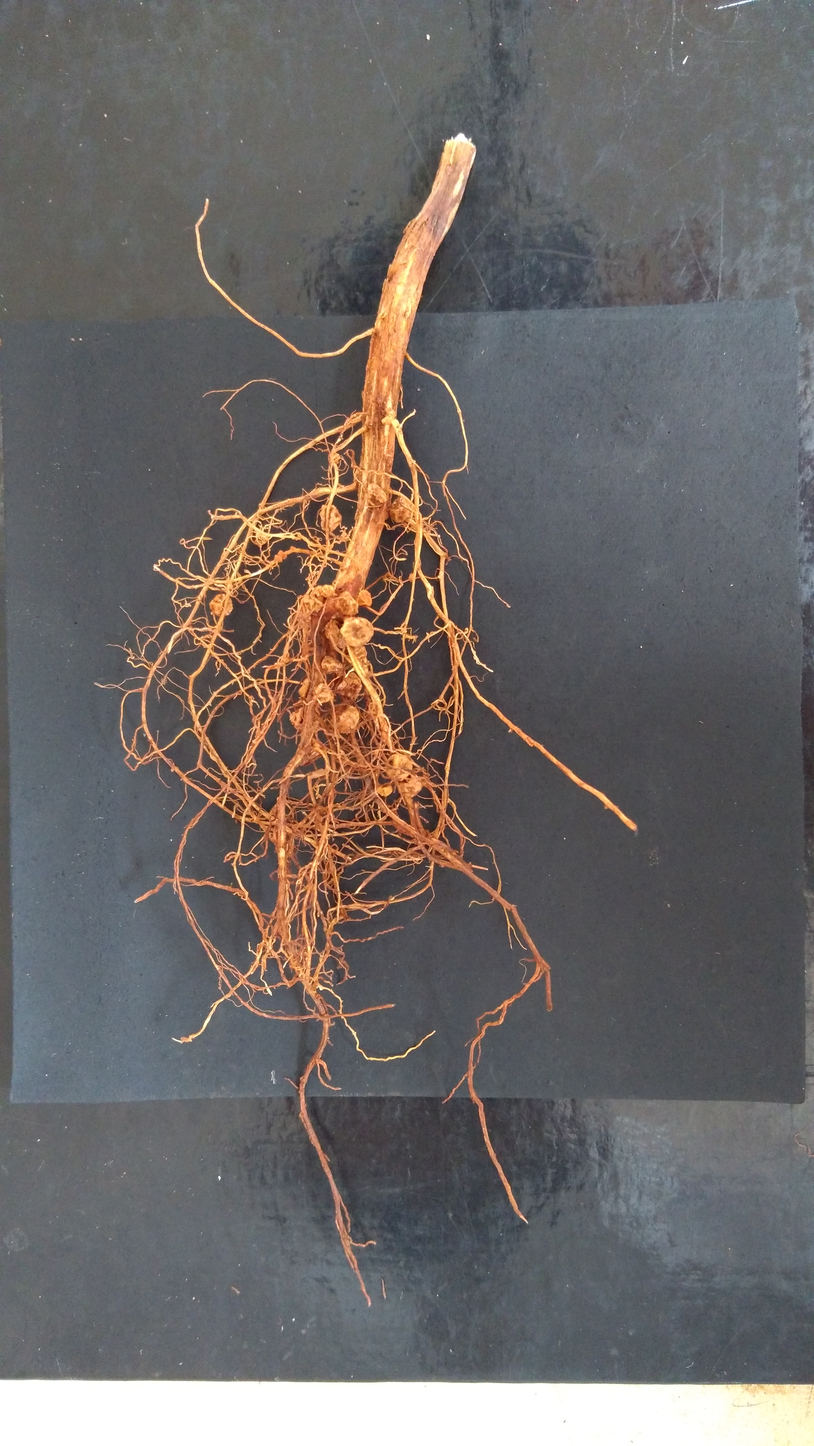nodule: (340, 617, 374, 647), (329, 703, 359, 733), (296, 737, 327, 766), (385, 754, 413, 781), (390, 497, 417, 523), (324, 620, 347, 648), (319, 504, 342, 532), (337, 672, 362, 697), (334, 591, 359, 615), (399, 772, 422, 797), (209, 593, 233, 616), (353, 644, 369, 678), (312, 683, 332, 704), (310, 586, 326, 612), (367, 483, 387, 503), (301, 595, 322, 614), (321, 656, 343, 674), (289, 707, 303, 729), (297, 610, 311, 630), (356, 589, 372, 606), (298, 678, 310, 697), (377, 782, 392, 796), (313, 705, 321, 731), (367, 702, 378, 720), (320, 585, 335, 598), (362, 661, 373, 678), (385, 406, 395, 420), (329, 453, 340, 465), (336, 749, 345, 763), (277, 550, 287, 559), (282, 649, 290, 659), (375, 749, 382, 759), (381, 731, 387, 742), (274, 554, 282, 562), (408, 573, 414, 582), (300, 654, 309, 660), (180, 1036, 189, 1042), (290, 546, 295, 550)
